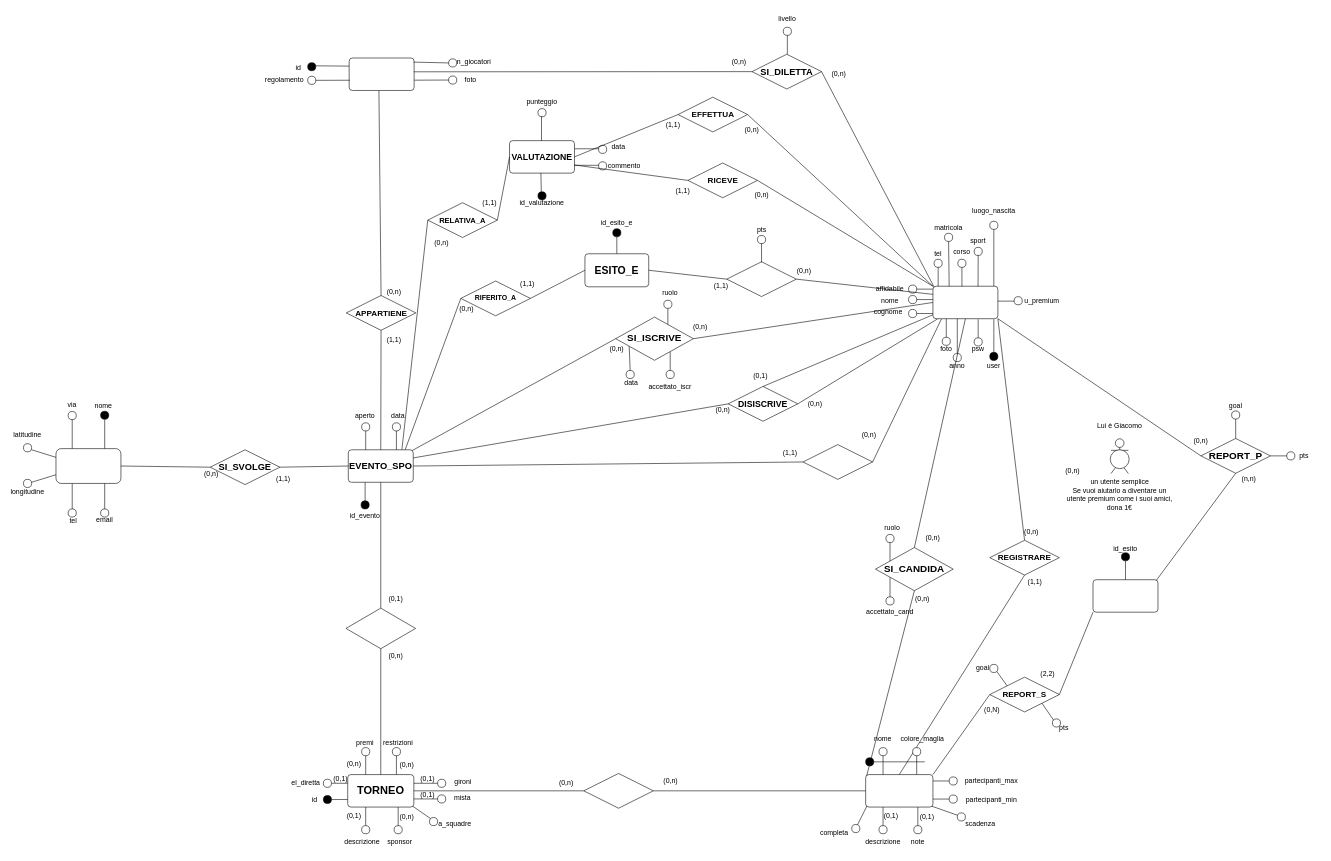
The diagram is 1331 pixels wide and 861 high, and some of its shapes have lost their labels. The centre of each missing label's shape, as x and y in pixels:
"CATEGORIA" belongs at point (381, 73).
"ESITO" belongs at point (1125, 595).
"FORMA" belongs at point (380, 628).
"IMPIANTO" belongs at point (88, 465).
"ORGANIZZA" belongs at point (837, 461).
"PARTECIPA" belongs at point (618, 790).
"REPORT_P_E" belongs at point (761, 279).
"SQUADRA" belongs at point (899, 790).
"UTENTE" belongs at point (965, 302).
